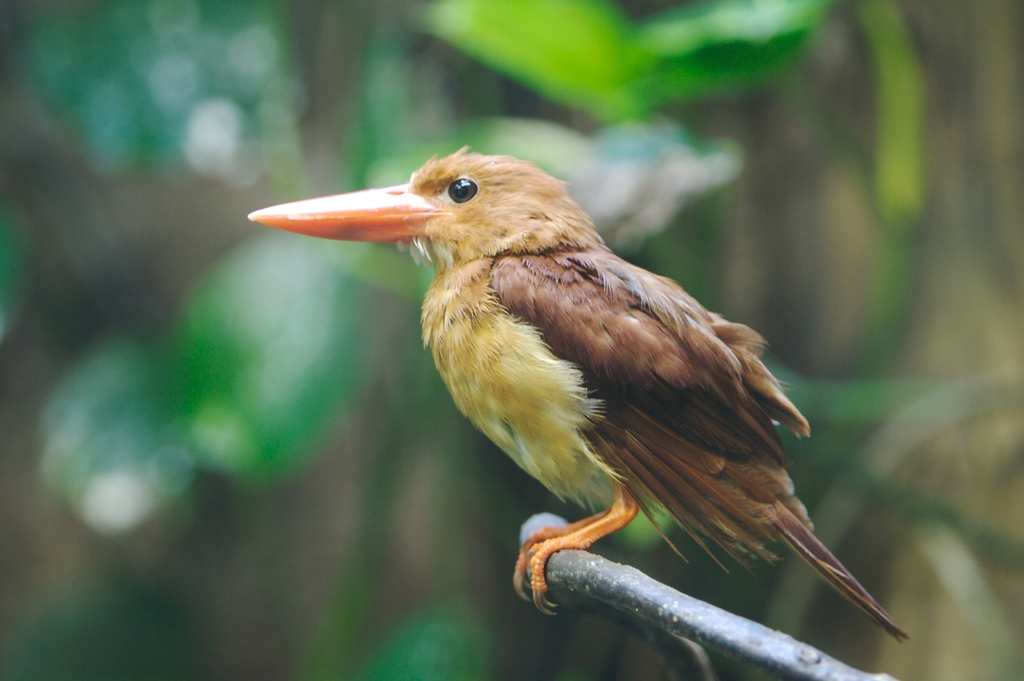Bird: (244, 142, 915, 657)
